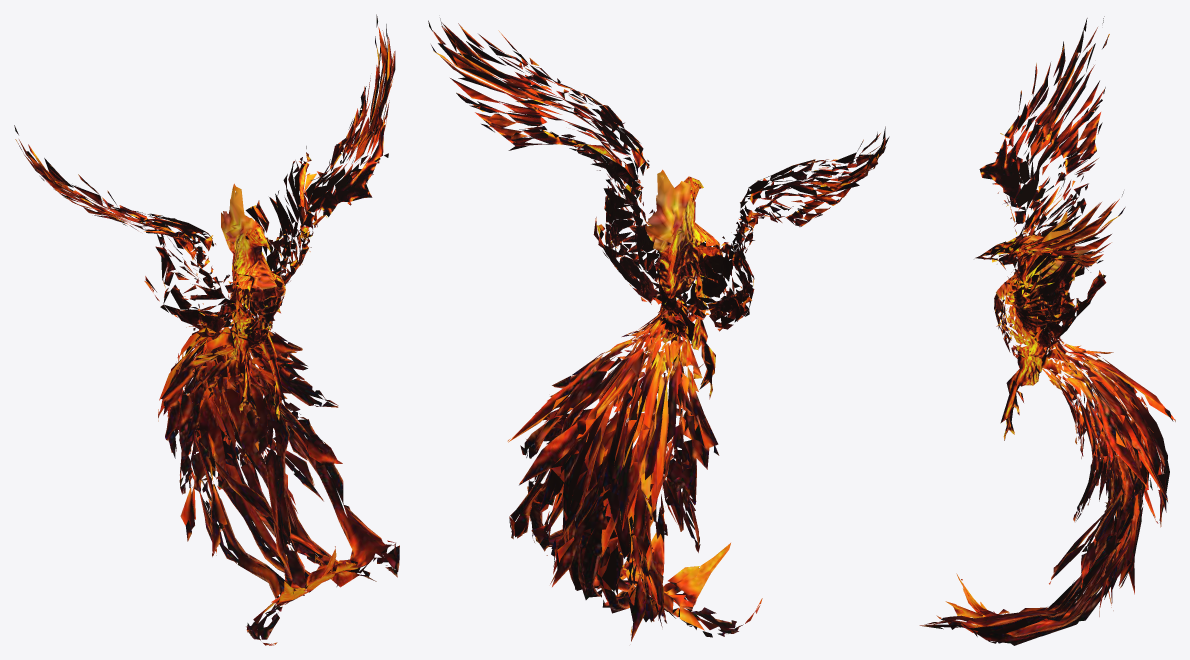
File: FengHuang.glb
3 views of the same model, side by side, from view 1: azimuth 30°, elevation 25°; view 2: azimuth 150°, elevation 25°; view 3: azimuth 270°, elevation 25° (orthographic). The views are drawn at different scales.
Visible parts, largest first — view 1: Retopo_Phoenix_Body.001 (ACTIVE 02).005, Retopo_Phoenix_WingLeft02 (low remesh shrunkwrap).003, Retopo_Phoenix_Body.001 (ACTIVE 02).004, Retopo_Phoenix_WingLeft01 (low remesh shrunkwrap).003; view 2: Retopo_Phoenix_Body.001 (ACTIVE 02).005, Retopo_Phoenix_WingLeft02 (low remesh shrunkwrap).003, Retopo_Phoenix_WingLeft01 (low remesh shrunkwrap).003, Retopo_Phoenix_Body.001 (ACTIVE 02).004; view 3: Retopo_Phoenix_Body.001 (ACTIVE 02).005, Retopo_Phoenix_WingLeft02 (low remesh shrunkwrap).003, Retopo_Phoenix_WingLeft01 (low remesh shrunkwrap).003, Retopo_Phoenix_Body.001 (ACTIVE 02).004.
Part boxes in pixels (<box>): Retopo_Phoenix_Body.001 (ACTIVE 02).005: <box>158,313,399,645</box>; Retopo_Phoenix_WingLeft02 (low remesh shrunkwrap).003: <box>14,14,395,268</box>; Retopo_Phoenix_Body.001 (ACTIVE 02).004: <box>221,183,285,420</box>; Retopo_Phoenix_WingLeft01 (low remesh shrunkwrap).003: <box>100,146,312,337</box>; Retopo_Phoenix_Body.001 (ACTIVE 02).005: <box>507,308,762,641</box>; Retopo_Phoenix_WingLeft02 (low remesh shrunkwrap).003: <box>428,18,889,231</box>; Retopo_Phoenix_WingLeft01 (low remesh shrunkwrap).003: <box>559,137,782,331</box>; Retopo_Phoenix_Body.001 (ACTIVE 02).004: <box>646,169,723,399</box>; Retopo_Phoenix_Body.001 (ACTIVE 02).005: <box>919,337,1175,645</box>; Retopo_Phoenix_WingLeft02 (low remesh shrunkwrap).003: <box>975,16,1125,288</box>; Retopo_Phoenix_WingLeft01 (low remesh shrunkwrap).003: <box>1006,158,1106,347</box>; Retopo_Phoenix_Body.001 (ACTIVE 02).004: <box>994,211,1094,440</box>.
Size of the model in its own units: 4.42 by 5.94 by 2.58.
4 materials, 4 textured.
